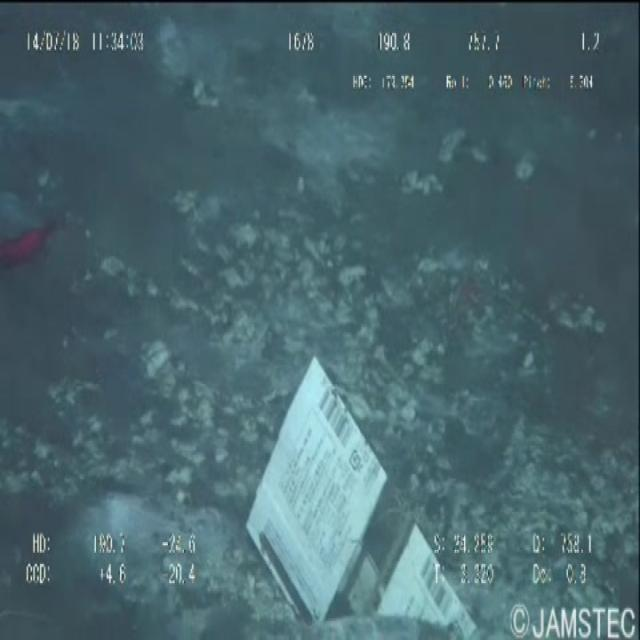Glass: (234, 336, 481, 640)
Litter: (1, 175, 59, 282)
